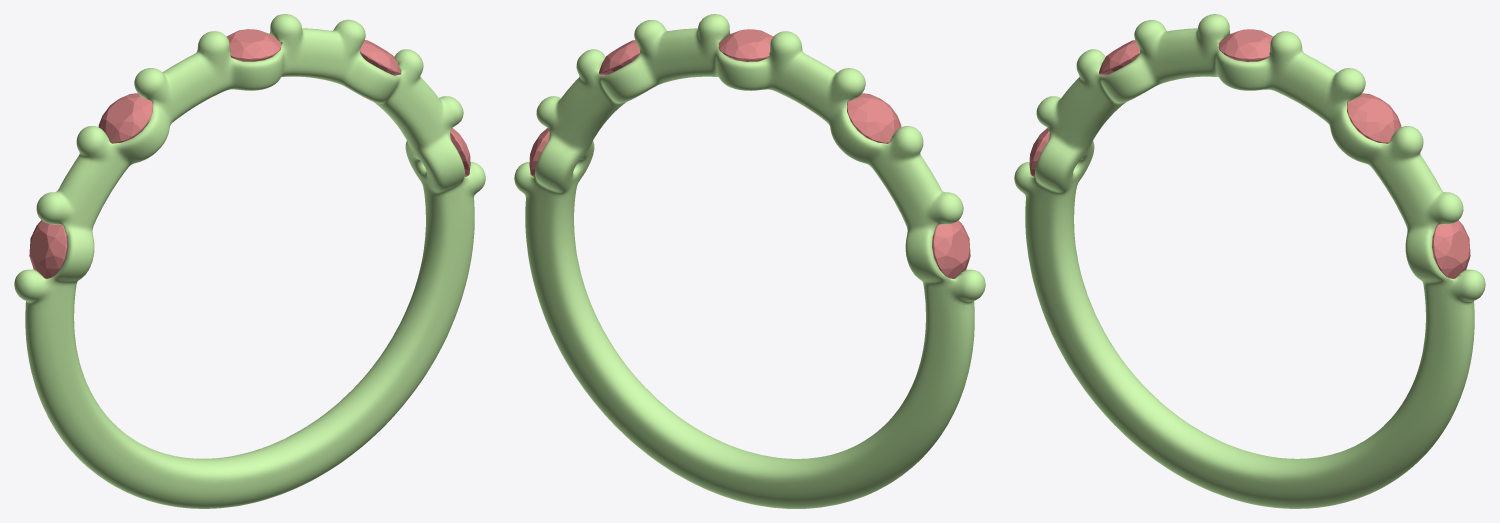
Rendered from BE2D5541_RENDER.glb.
The picture shows the model from 3 angles, left to right: view 1: azimuth 30°, elevation 25°; view 2: azimuth 150°, elevation 25°; view 3: azimuth 330°, elevation 25°; orthographic projection.
Visible parts, largest first — view 1: Metal03, Diamond_Round_Gem_BD.001, Diamond_Round_Gem_BD.002, Diamond_Round_Gem_BD, Diamond_Round_Gem_BD.003; view 2: Metal03, Diamond_Round_Gem_BD.001, Diamond_Round_Gem_BD.002, Diamond_Round_Gem_BD, Diamond_Round_Gem_BD.003; view 3: Metal03, Diamond_Round_Gem_BD.003, Diamond_Round_Gem_BD.004, Diamond_Round_Gem_BD, Diamond_Round_Gem_BD.001.
Boxes of the visible parts, box(x1,y1,x2,y2) form: Metal03: box(14, 14, 485, 508); Diamond_Round_Gem_BD.001: box(98, 93, 153, 143); Diamond_Round_Gem_BD.002: box(29, 220, 67, 278); Diamond_Round_Gem_BD: box(226, 29, 281, 61); Diamond_Round_Gem_BD.003: box(360, 40, 401, 75); Metal03: box(514, 14, 985, 508); Diamond_Round_Gem_BD.001: box(847, 93, 901, 143); Diamond_Round_Gem_BD.002: box(932, 220, 970, 278); Diamond_Round_Gem_BD: box(718, 29, 773, 61); Diamond_Round_Gem_BD.003: box(598, 40, 639, 75); Metal03: box(1014, 14, 1485, 508); Diamond_Round_Gem_BD.003: box(1347, 93, 1401, 143); Diamond_Round_Gem_BD.004: box(1432, 220, 1470, 278); Diamond_Round_Gem_BD: box(1218, 29, 1273, 61); Diamond_Round_Gem_BD.001: box(1098, 40, 1139, 75).
Size of the model in its own units: 21.46 by 20.98 by 2.72.
